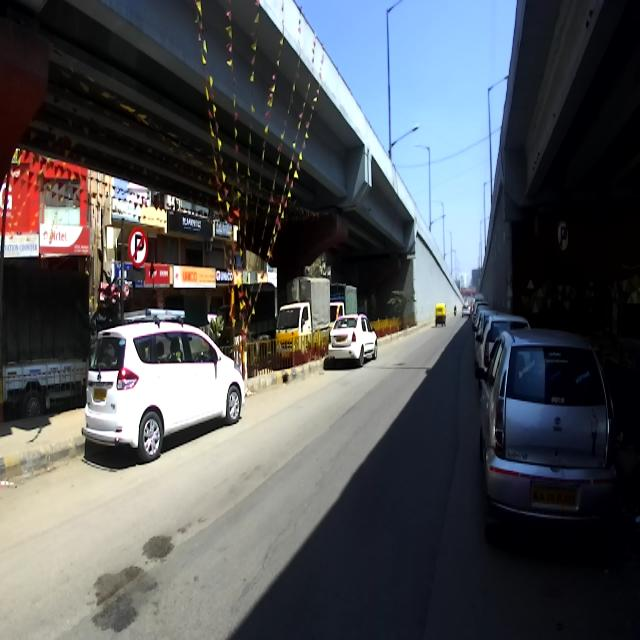car ahead at: (481, 338, 618, 543), (88, 299, 252, 448), (319, 314, 384, 368)
